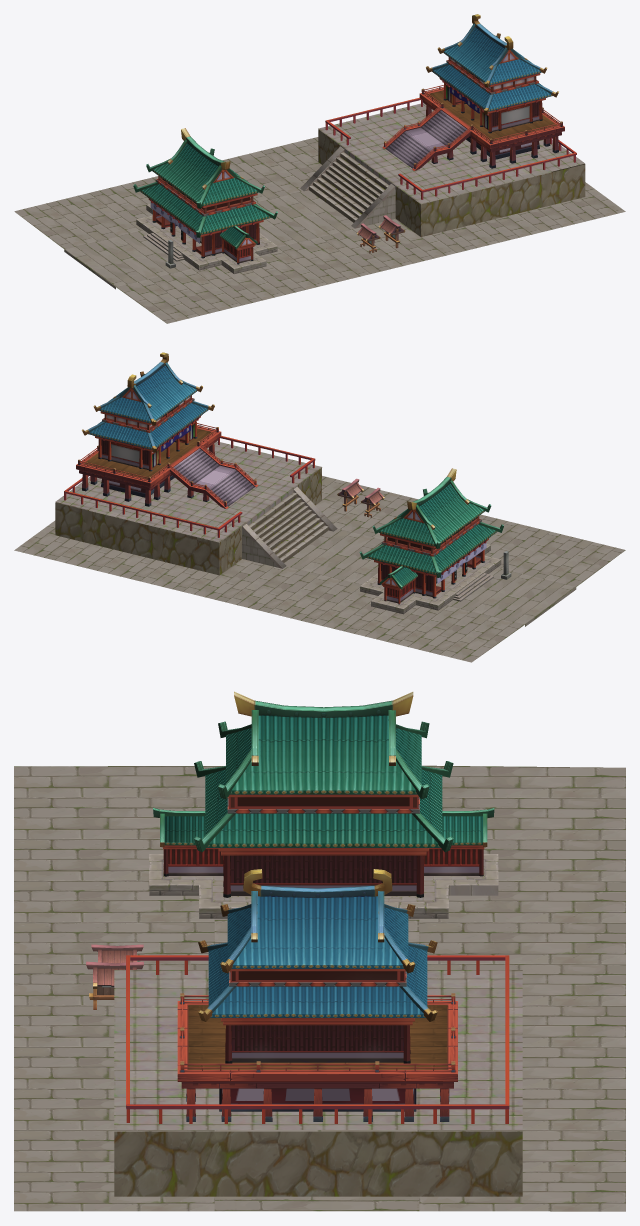
The picture shows the model from 3 angles, top to bottom: view 1: azimuth 30°, elevation 25°; view 2: azimuth 150°, elevation 25°; view 3: azimuth 270°, elevation 25°; orthographic projection. The views are drawn at different scales.
Parts seen in each view (by area): view 1: S_Zssdd; view 2: S_Zssdd; view 3: S_Zssdd.
Boxes of the visible parts, <box> form: S_Zssdd: <box>14,14,625,323</box>; S_Zssdd: <box>14,352,625,662</box>; S_Zssdd: <box>14,691,625,1211</box>.
Bounding box in the file's own units: 5833 × 1797 × 3381.
Materials: 17 (17 with a texture image).
